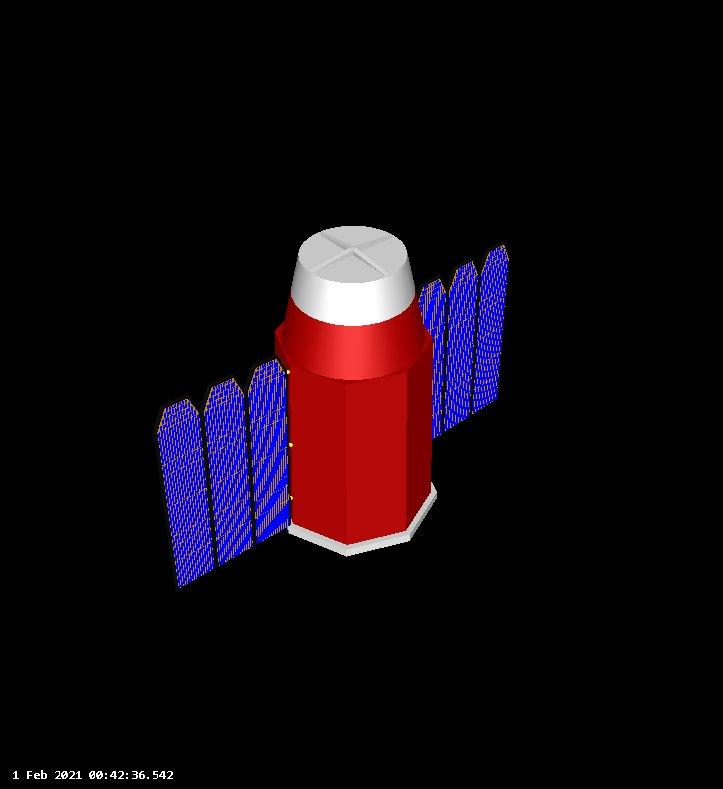body: (272, 214, 440, 559)
solar: (148, 354, 293, 593), (415, 239, 513, 444)
